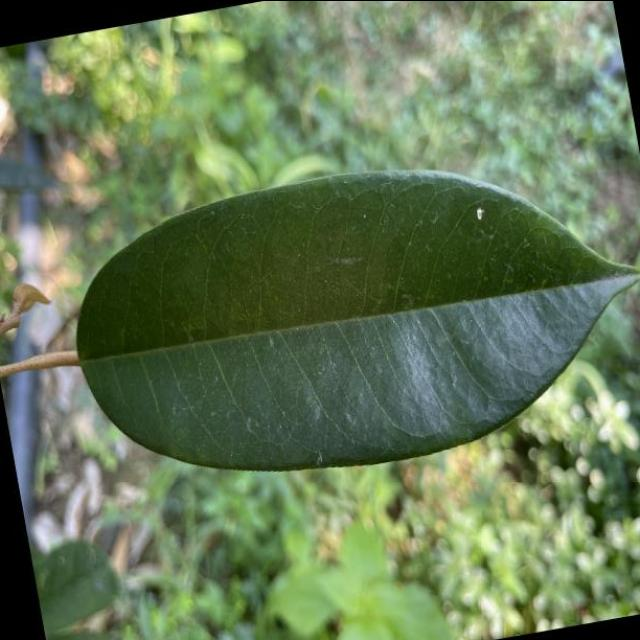No Disease: (42, 116, 640, 523)
